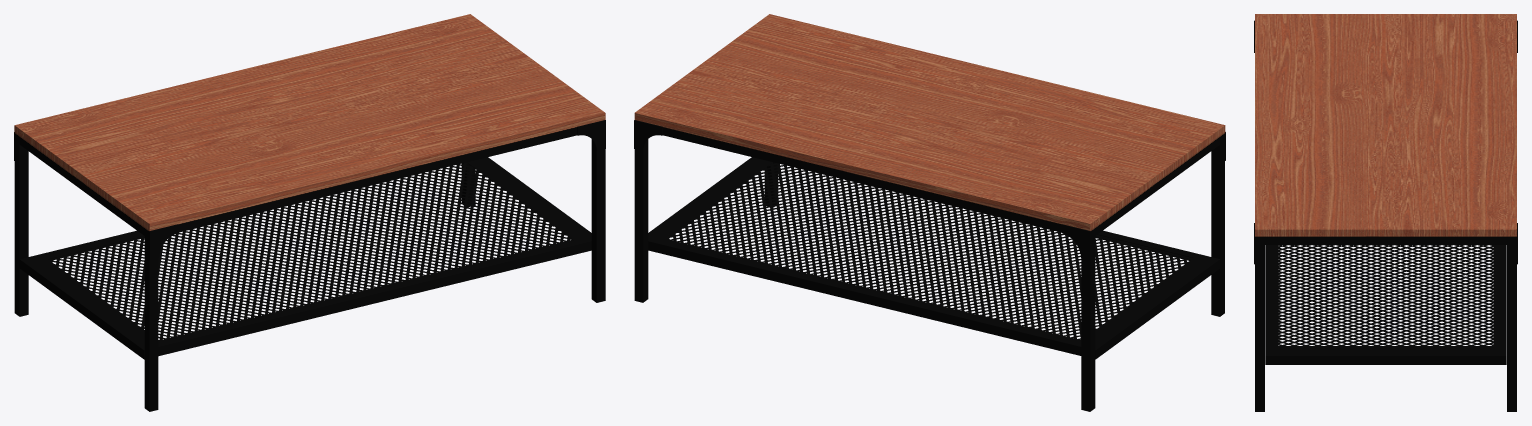
3 renders of one model, left to right at view 1: azimuth 30°, elevation 25°; view 2: azimuth 150°, elevation 25°; view 3: azimuth 270°, elevation 25°, orthographic. The views are drawn at different scales.
Parts seen in each view (by area): view 1: Fjaellbo.Body.Game.Merged.LowPoly; view 2: Fjaellbo.Body.Game.Merged.LowPoly; view 3: Fjaellbo.Body.Game.Merged.LowPoly.
Boxes of the visible parts, <box> form: Fjaellbo.Body.Game.Merged.LowPoly: <box>14,14,605,411</box>; Fjaellbo.Body.Game.Merged.LowPoly: <box>634,14,1225,411</box>; Fjaellbo.Body.Game.Merged.LowPoly: <box>1254,14,1517,411</box>.
Size of the model in its own units: 89.73 by 35.36 by 46.35.
1 material, 1 textured.
